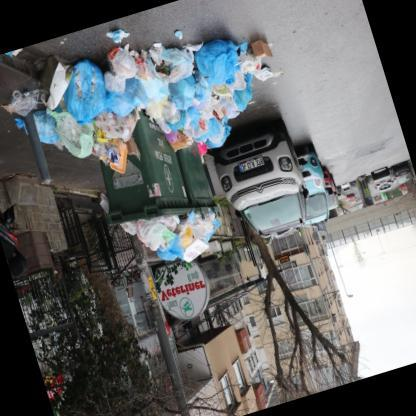Garbage: (129, 0, 297, 139), (32, 17, 162, 136), (150, 31, 272, 150), (121, 202, 226, 272), (58, 50, 124, 130), (229, 5, 289, 86), (120, 30, 170, 108), (30, 54, 84, 124), (188, 30, 241, 88), (52, 104, 98, 160), (91, 132, 138, 180), (30, 99, 64, 145), (102, 46, 142, 82), (98, 98, 134, 136), (177, 224, 210, 256), (134, 214, 167, 246), (153, 231, 186, 260), (4, 88, 30, 120), (103, 18, 128, 51), (195, 213, 224, 234), (159, 213, 186, 233), (173, 25, 197, 44), (122, 223, 138, 239), (184, 209, 196, 224)
